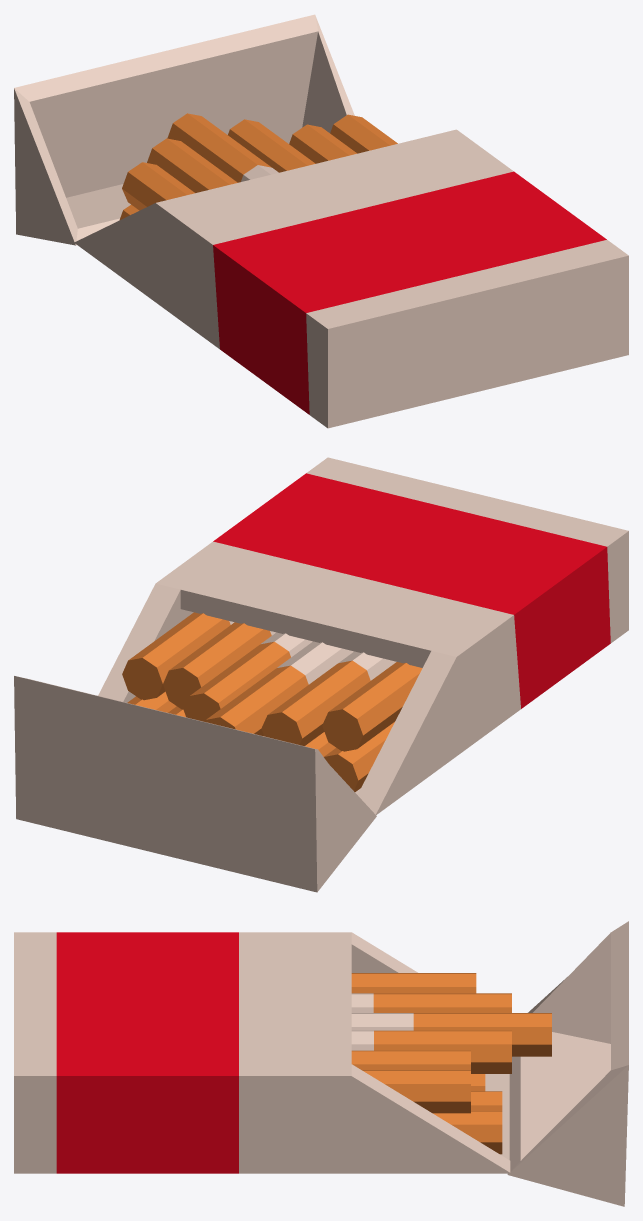
The model's file is Tobacco_Box.fbx.
The picture shows the model from 3 angles, top to bottom: view 1: azimuth 30°, elevation 25°; view 2: azimuth 150°, elevation 25°; view 3: azimuth 270°, elevation 25°; orthographic projection. The views are drawn at different scales.
Visible parts, largest first — view 1: Cube.009; view 2: Cube.009; view 3: Cube.009.
Part boxes in pixels (x1,y1,x2,y2): Cube.009: (14, 14, 628, 428); Cube.009: (14, 457, 628, 892); Cube.009: (14, 921, 628, 1206).
Size of the model in its own units: 50.34 by 23.15 by 90.88.
